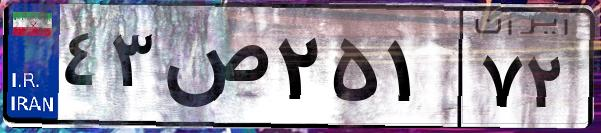1: (385, 28, 445, 110)
2: (270, 28, 330, 110), (525, 38, 570, 115)
3: (110, 28, 158, 98)
4: (57, 26, 110, 100)
5: (330, 28, 385, 110)
7: (475, 38, 525, 113)
ص: (158, 20, 270, 120)
